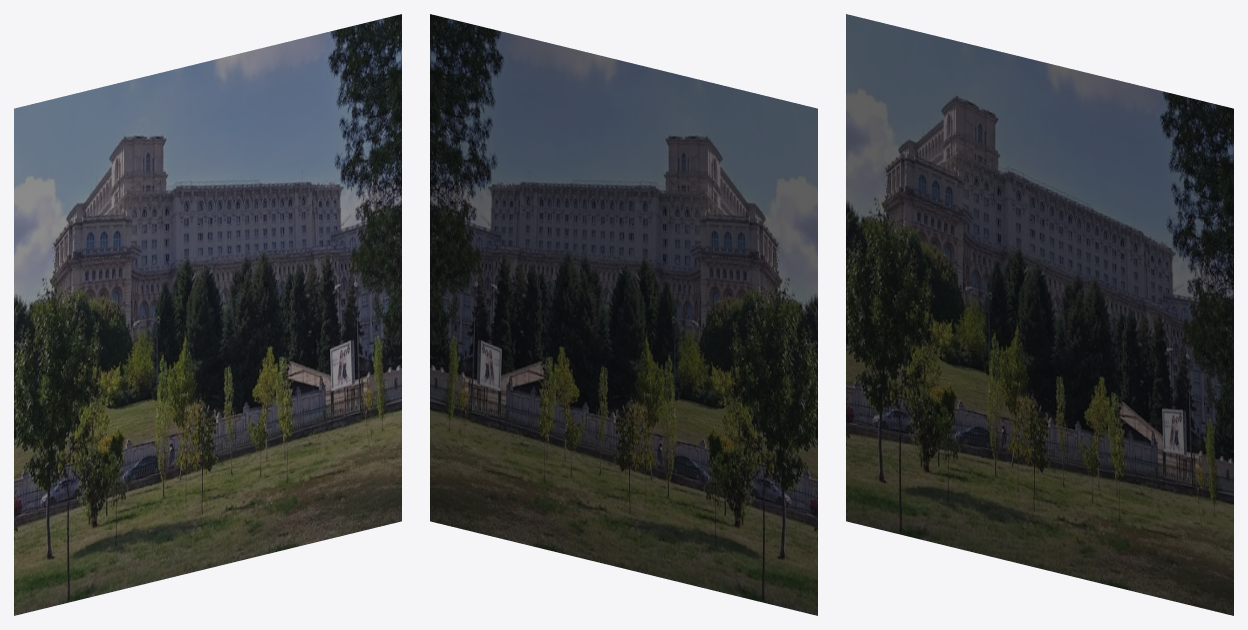
The picture shows the model from 3 angles, left to right: view 1: azimuth 30°, elevation 25°; view 2: azimuth 150°, elevation 25°; view 3: azimuth 330°, elevation 25°; orthographic projection.
Parts seen in each view (by area): view 1: node-0; view 2: node-0; view 3: node-0.
Boxes of the visible parts, x1,y1,x2,y2 form: node-0: (14,14,401,615); node-0: (430,14,817,615); node-0: (846,14,1233,615).
Bounding box in the file's own units: 381 × 476 × 0.
Materials: 1 (1 with a texture image).
